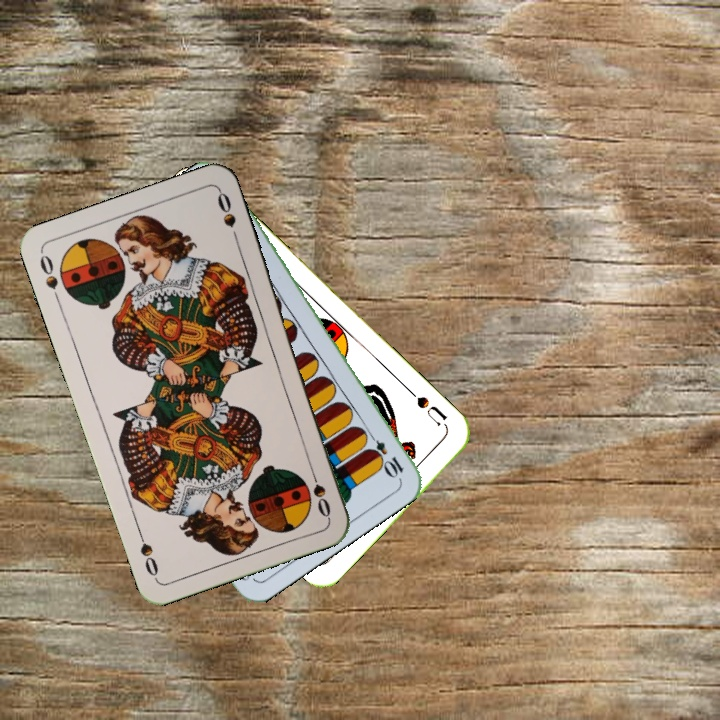E10: (362, 427, 406, 480)
SO: (305, 462, 333, 520), (35, 251, 63, 307)
SU: (404, 385, 451, 431)
